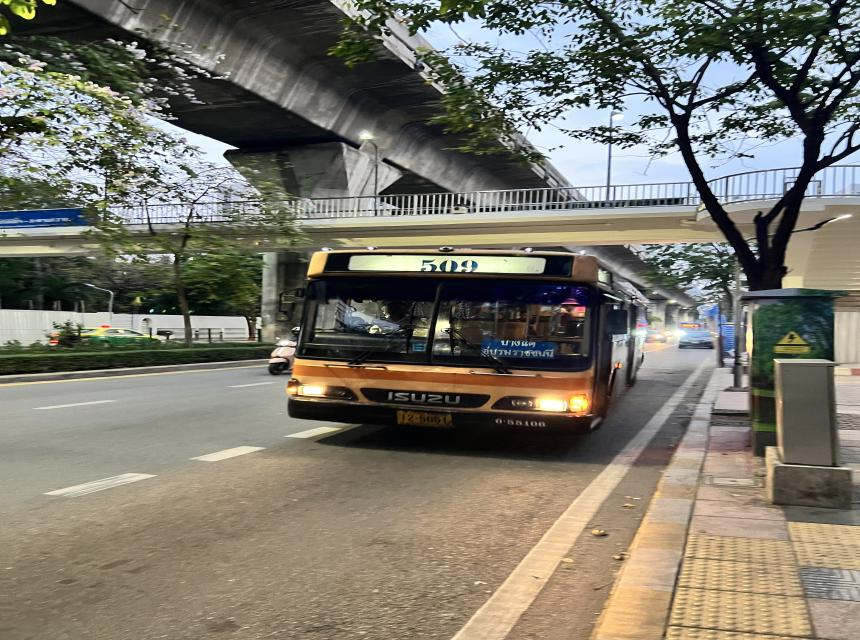BMTA-bus: (286, 247, 647, 436)
Bus Line Number: (414, 257, 484, 275)
Bus Side Number: (489, 417, 550, 430)
Destination Sign: (480, 338, 562, 362)
